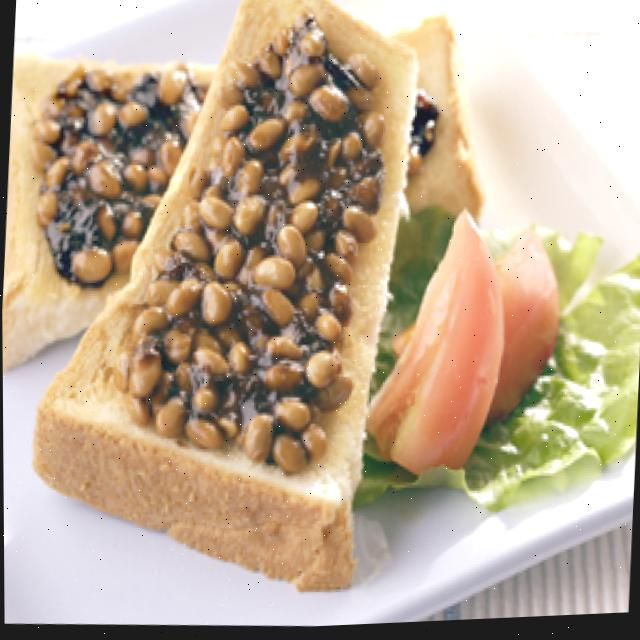面包点心: (0, 3, 495, 616)
